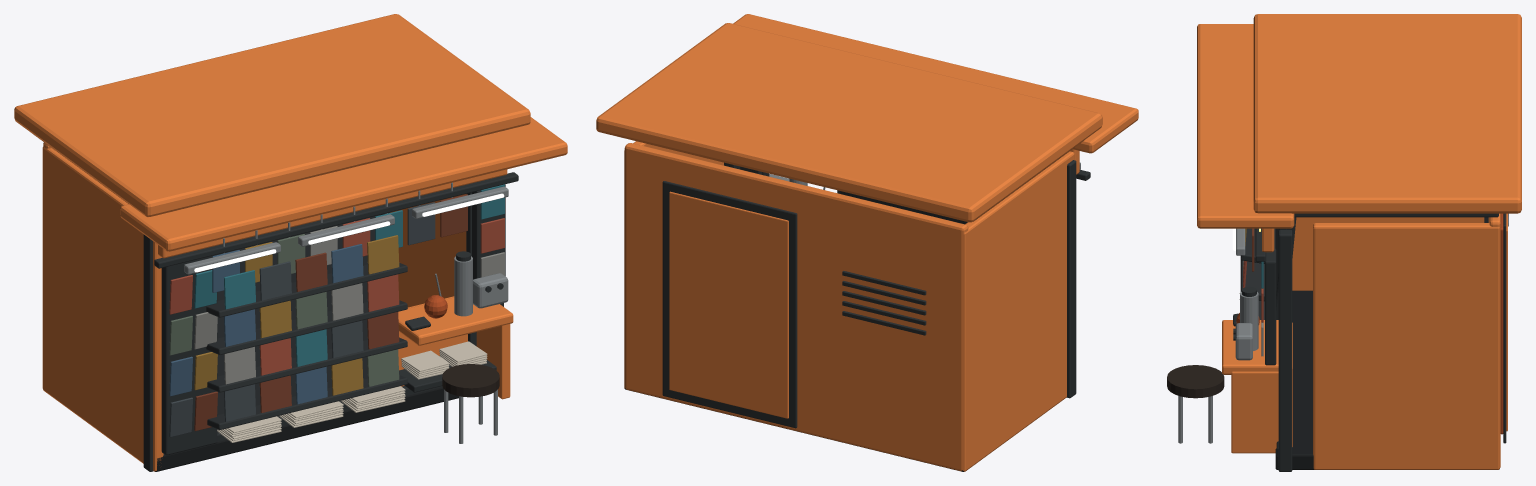
Rendered from b54-ftt-lowpoly-simulator-original.glb.
3 renders of one model, left to right at view 1: azimuth 30°, elevation 25°; view 2: azimuth 150°, elevation 25°; view 3: azimuth 270°, elevation 25°, orthographic. The views are drawn at different scales.
Parts seen in each view (by area): view 1: B54_M02_Roof, B54_M01_LeftWall, B54_M02_FrontAwning, B54_M03_LeftDisplayFrame, B54_M01_RightWall, B54_M01_Floor, B54_M02_SignTrimBottom, B54_M04_CounterTop, B54_M03_CentralBack, B54_M01_Post_-1.58, B54_M02_SignFascia, B54_M03_Shelf_3 (+47 smaller); view 2: B54_M02_Roof, B54_M01_BackWall, B54_M01_LeftWall, B54_M01_RearDoorInset, B54_M02_FrontAwning, B54_M01_RearDoorFrame, B54_M01_Post_-1.58, B54_M01_RightWall; view 3: B54_M02_Roof, B54_M01_RightWall, B54_M02_FrontAwning, B54_M04_CounterSideR, B54_M01_Floor, B54_M01_Post_+1.58, B54_M01_LeftWall, B54_M08_StoolSeat, B54_M04_CounterTop, B54_M03_RightDisplay, B54_M02_RoofShadow, B54_M01_RearDoorFrame (+7 smaller).
Boxes of the visible parts, box(x1,y1,x2,y2) form: B54_M02_Roof: box(14, 14, 530, 216); B54_M01_LeftWall: box(42, 146, 163, 471); B54_M02_FrontAwning: box(120, 117, 567, 251); B54_M03_LeftDisplayFrame: box(161, 254, 217, 455); B54_M01_RightWall: box(390, 194, 466, 307); B54_M01_Floor: box(155, 386, 458, 471); B54_M02_SignTrimBottom: box(154, 172, 518, 268); B54_M04_CounterTop: box(398, 297, 513, 345); B54_M03_CentralBack: box(217, 214, 380, 415); B54_M01_Post_-1.58: box(143, 234, 153, 471); B54_M02_SignFascia: box(158, 169, 507, 258); B54_M03_Shelf_3: box(206, 262, 407, 317); B54_M02_Roof: box(596, 23, 1102, 222); B54_M01_BackWall: box(624, 143, 968, 471); B54_M01_LeftWall: box(962, 151, 1074, 471); B54_M01_RearDoorInset: box(669, 191, 788, 418); B54_M02_FrontAwning: box(733, 14, 1138, 153); B54_M01_RearDoorFrame: box(662, 181, 797, 428); B54_M01_Post_-1.58: box(1066, 160, 1076, 398); B54_M01_RightWall: box(624, 141, 723, 388); B54_M02_Roof: box(1253, 14, 1521, 213); B54_M01_RightWall: box(1313, 223, 1499, 469); B54_M02_FrontAwning: box(1197, 24, 1294, 228); B54_M04_CounterSideR: box(1231, 371, 1278, 453); B54_M01_Floor: box(1275, 290, 1499, 469); B54_M01_Post_+1.58: box(1278, 230, 1292, 471); B54_M01_LeftWall: box(1292, 217, 1489, 290); B54_M08_StoolSeat: box(1167, 365, 1224, 398); B54_M04_CounterTop: box(1222, 320, 1278, 374); B54_M03_RightDisplay: box(1265, 248, 1276, 365); B54_M02_RoofShadow: box(1294, 213, 1498, 217); B54_M01_RearDoorFrame: box(1503, 213, 1506, 443).
Bounding box in the file's own units: 3.7 × 2.48 × 2.85.
